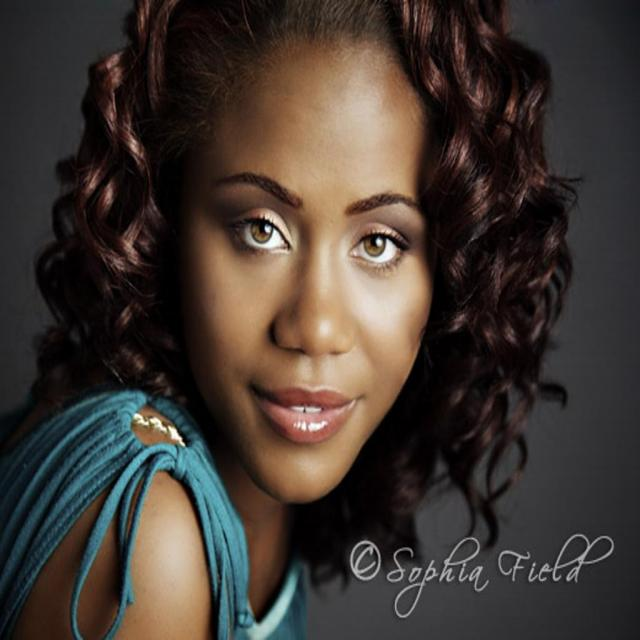nomask: (188, 53, 442, 506)
